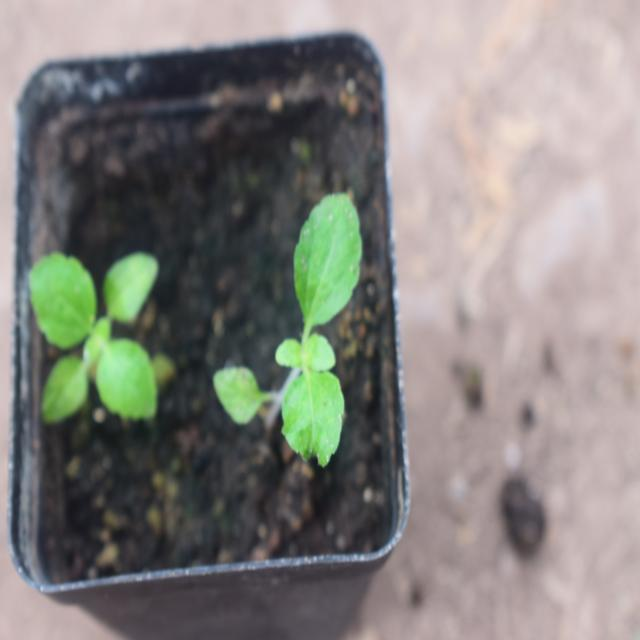billygoat_weed: (213, 171, 376, 488)
